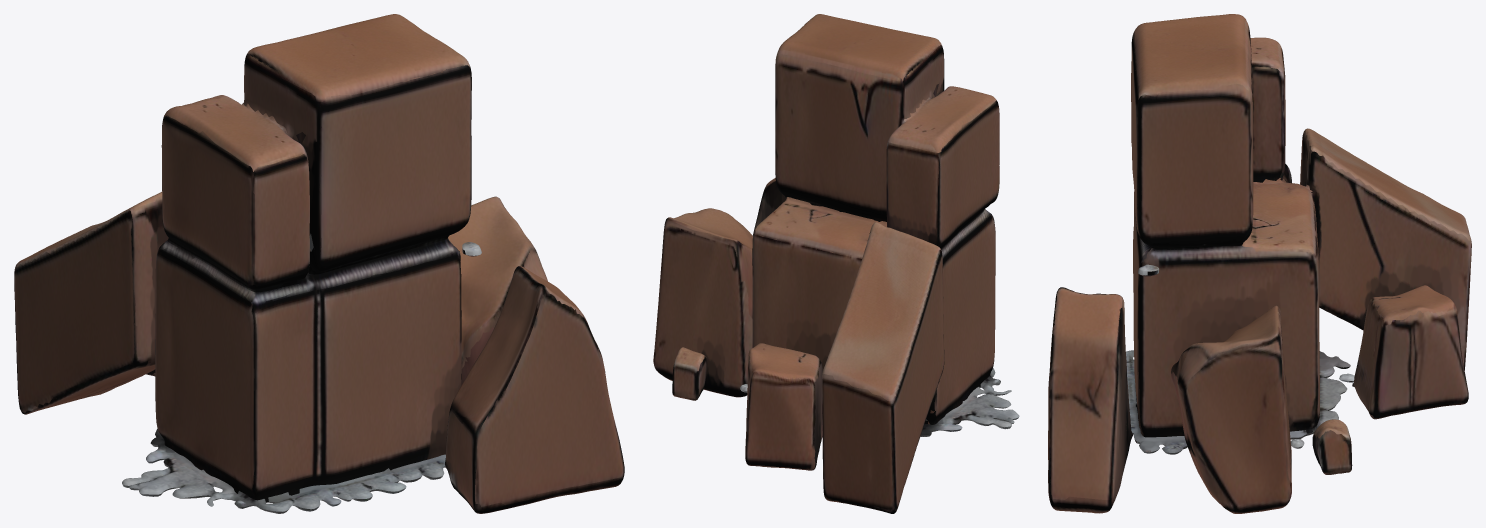
The model's file is debris-brick.glb.
The picture shows the model from 3 angles, left to right: view 1: azimuth 30°, elevation 25°; view 2: azimuth 150°, elevation 25°; view 3: azimuth 270°, elevation 25°; orthographic projection. The views are drawn at different scales.
Visible parts, largest first — view 1: tmpnm0mdeul.ply; view 2: tmpnm0mdeul.ply; view 3: tmpnm0mdeul.ply.
Part boxes in pixels (box(x1,y1,x2,y2)): tmpnm0mdeul.ply: box(14, 14, 624, 513); tmpnm0mdeul.ply: box(653, 14, 1019, 513); tmpnm0mdeul.ply: box(1048, 14, 1471, 513).
Size of the model in its own units: 1 by 1 by 1.
Materials: 1 (1 with a texture image).
